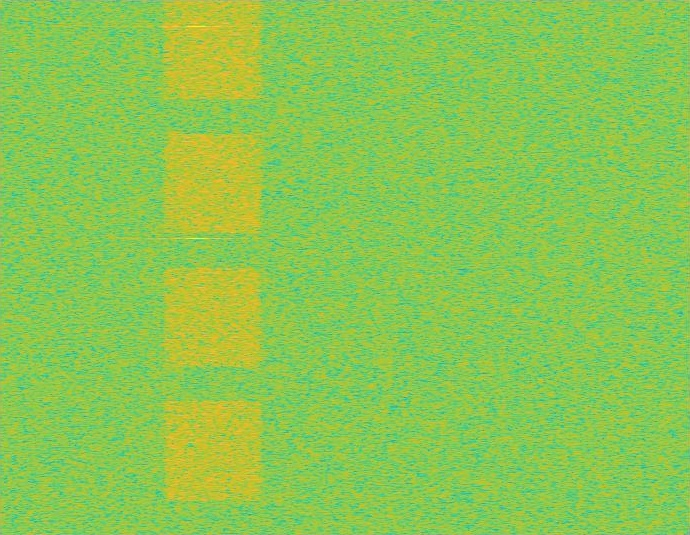5G: (161, 0, 265, 534)
Radar: (190, 0, 204, 534)
